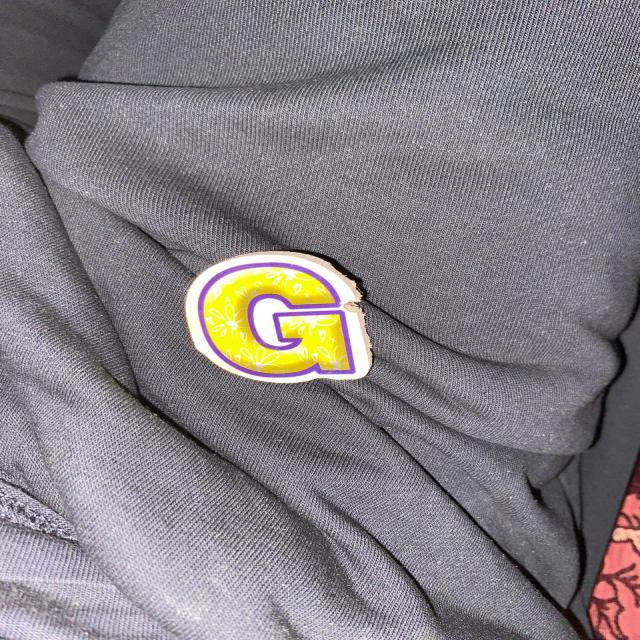G: (185, 251, 371, 383)
